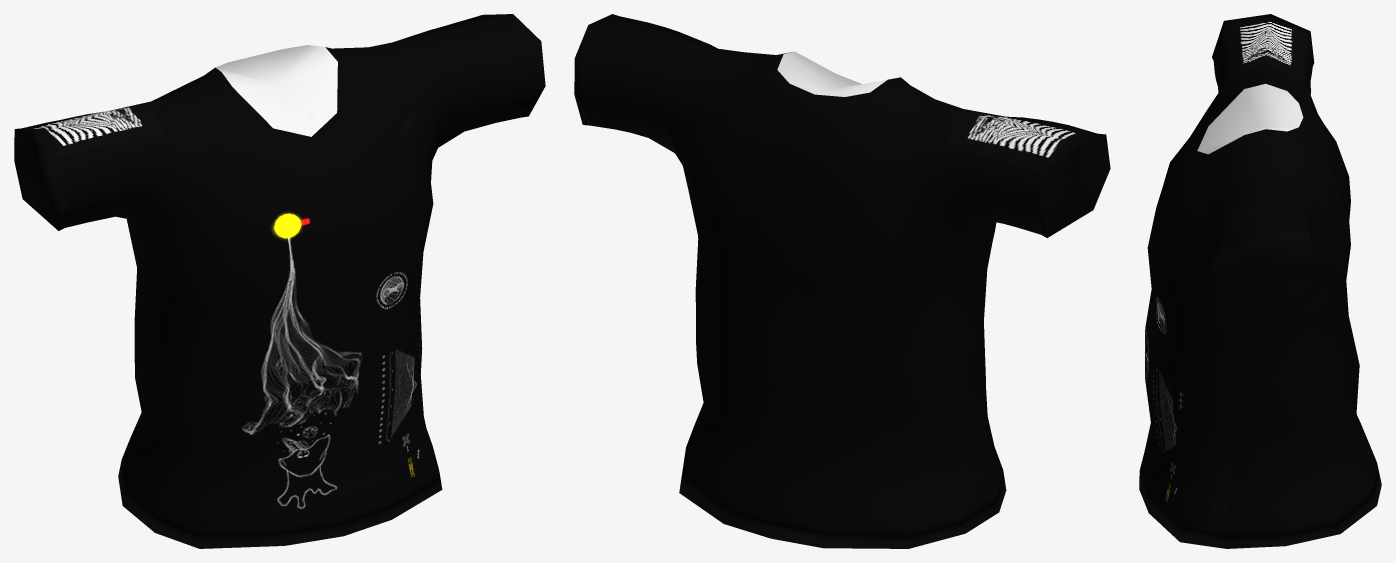
The model's file is TshirtYellowDetails.glb.
The picture shows the model from 3 angles, left to right: view 1: azimuth 30°, elevation 25°; view 2: azimuth 150°, elevation 25°; view 3: azimuth 270°, elevation 25°; orthographic projection. The views are drawn at different scales.
Visible parts, largest first — view 1: M_uBody_MANA_TShirt; view 2: M_uBody_MANA_TShirt; view 3: M_uBody_MANA_TShirt.
Part boxes in pixels (x1,y1,x2,y2): M_uBody_MANA_TShirt: [14, 14, 545, 548]; M_uBody_MANA_TShirt: [574, 14, 1110, 548]; M_uBody_MANA_TShirt: [1139, 14, 1381, 548].
Size of what is drawn, in the model's own units: 0.6986 by 0.5807 by 0.3333.
Materials: 2 (2 with a texture image).
